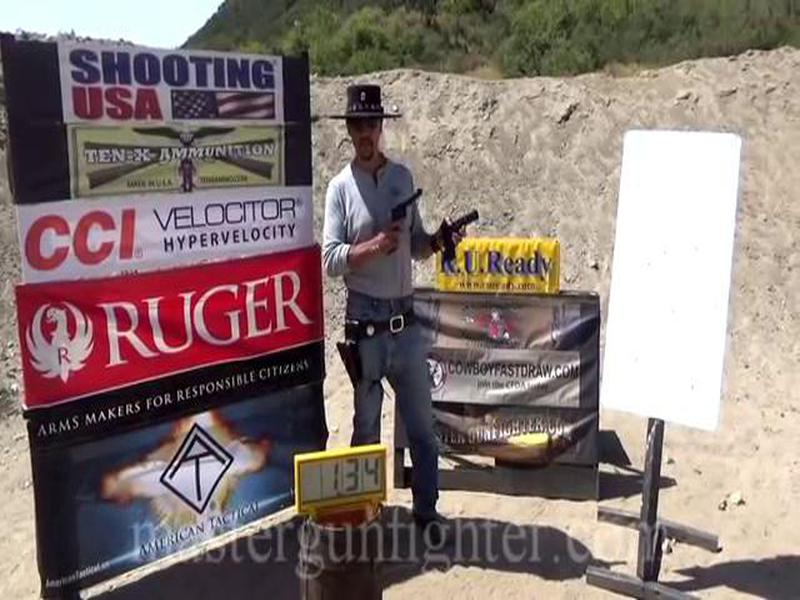Pistola: (432, 207, 492, 274)
Revolver: (372, 183, 427, 260)
